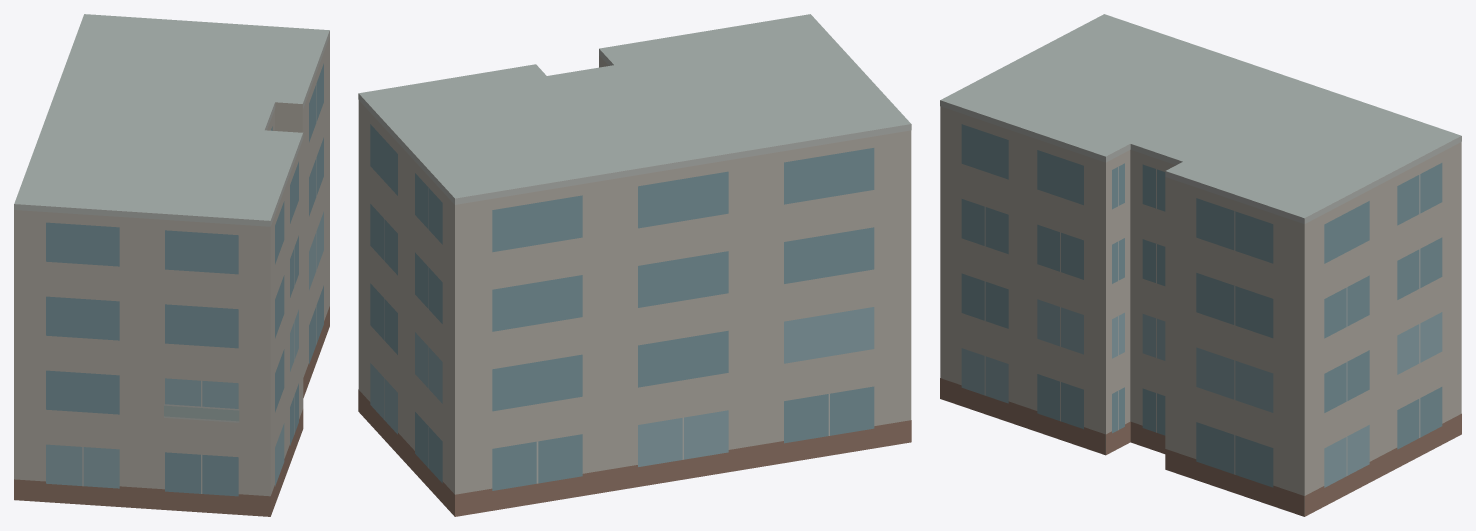
The model's file is residential-ecc0f468-8b82-4323-9bcd-3a421fa332d5.glb.
3 views of the same model, side by side, from view 1: azimuth 30°, elevation 25°; view 2: azimuth 150°, elevation 25°; view 3: azimuth 270°, elevation 25° (orthographic). The views are drawn at different scales.
Parts seen in each view (by area): view 1: residential-ecc0f468-8b82-4323-9bcd-3a421fa332d5.tmp; view 2: residential-ecc0f468-8b82-4323-9bcd-3a421fa332d5.tmp; view 3: residential-ecc0f468-8b82-4323-9bcd-3a421fa332d5.tmp.
Boxes of the visible parts, x1,y1,x2,y2 form: residential-ecc0f468-8b82-4323-9bcd-3a421fa332d5.tmp: (14, 14, 329, 516); residential-ecc0f468-8b82-4323-9bcd-3a421fa332d5.tmp: (358, 14, 911, 516); residential-ecc0f468-8b82-4323-9bcd-3a421fa332d5.tmp: (940, 14, 1461, 516).
Bounding box in the file's own units: 17.91 × 12.2 × 19.32.
